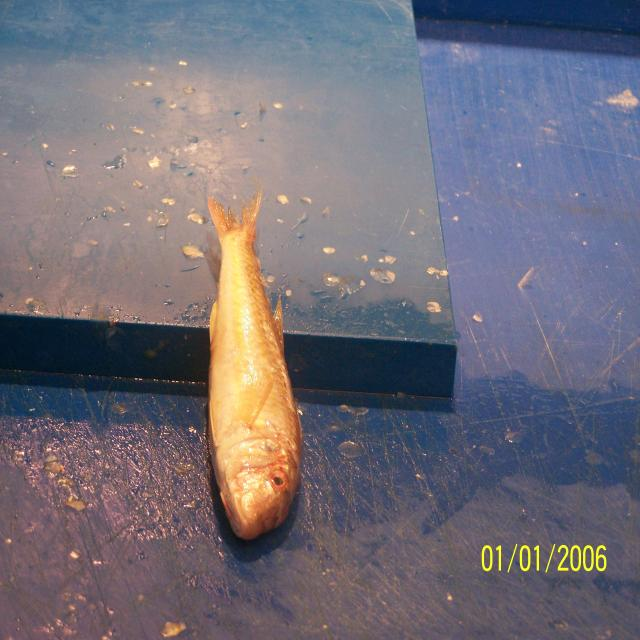Striped-Red-Mullet-tekir-: (206, 197, 303, 545)
